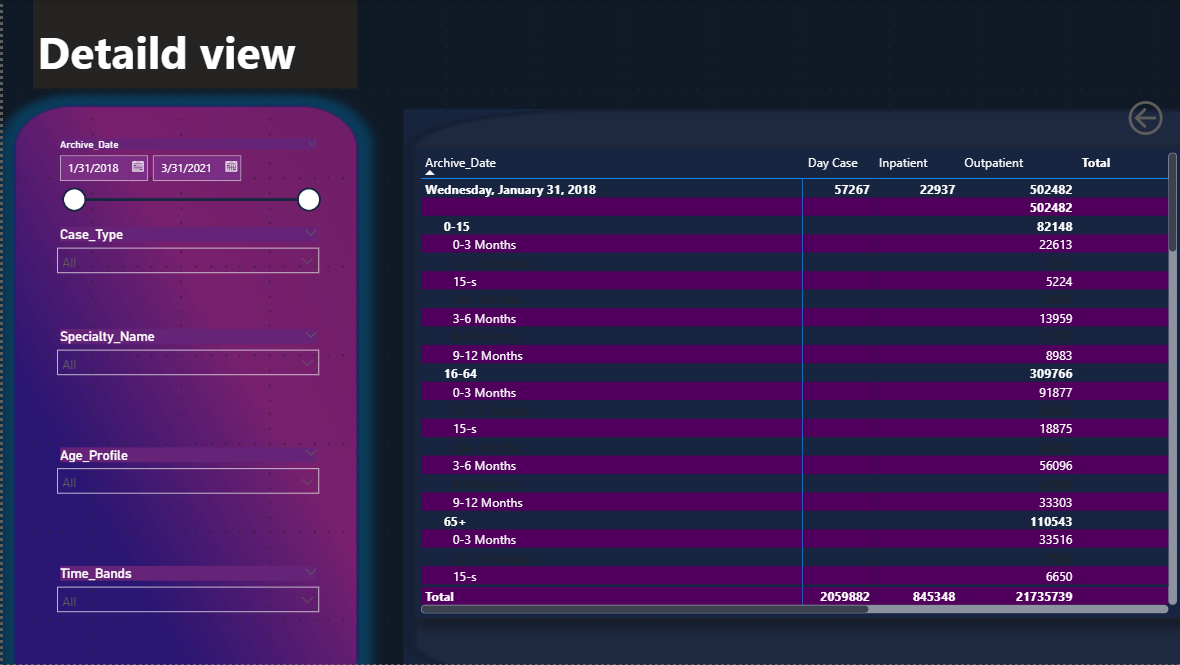

Layout of this report page (visuals, bound fields, positions):
{"tool":"powerbi","page":{"name":"Detail","canvas":[1280,720],"ordinal":1},"visuals":[{"type":"slicer","fields":{"Values":["All_Data.Archive_Date"]},"box":[48,144,304,96],"z":0},{"type":"slicer","fields":{"Values":["All_Data.Case_Type"]},"box":[48,240,304,80],"z":1000},{"type":"slicer","fields":{"Values":["All_Data.Specialty_Name"]},"box":[48,352,304,80],"z":2000},{"type":"textbox","box":[32,0,352,96],"z":3000},{"type":"slicer","fields":{"Values":["All_Data.Age_Profile"]},"box":[48,480,304,80],"z":4000},{"type":"slicer","fields":{"Values":["All_Data.Time_Bands"]},"box":[48,608,304,80],"z":5000},{"type":"pivotTable","fields":{"Rows":["All_Data.Archive_Date","All_Data.Specialty_Name","All_Data.Age_Profile","All_Data.Time_Bands"],"Columns":["All_Data.Case_Type"],"Values":["Sum(All_Data.Total)"]},"box":[448,160,832,512],"z":6000},{"type":"actionButton","box":[1216,96,48,64],"z":7000}]}

Visuals, with their boxes on the page's 1280x720 design canvas (x1, y1, x2, y2). These are canvas units, not pixel positions in the 1180x665 screenshot, which may show the page scaled, cropped or inside an application window:
slicer - All_Data.Archive_Date: box(48, 144, 352, 240)
slicer - All_Data.Case_Type: box(48, 240, 352, 320)
slicer - All_Data.Specialty_Name: box(48, 352, 352, 432)
textbox: box(32, 0, 384, 96)
slicer - All_Data.Age_Profile: box(48, 480, 352, 560)
slicer - All_Data.Time_Bands: box(48, 608, 352, 688)
pivotTable - All_Data.Archive_Date x All_Data.Specialty_Name: box(448, 160, 1280, 672)
actionButton: box(1216, 96, 1264, 160)
